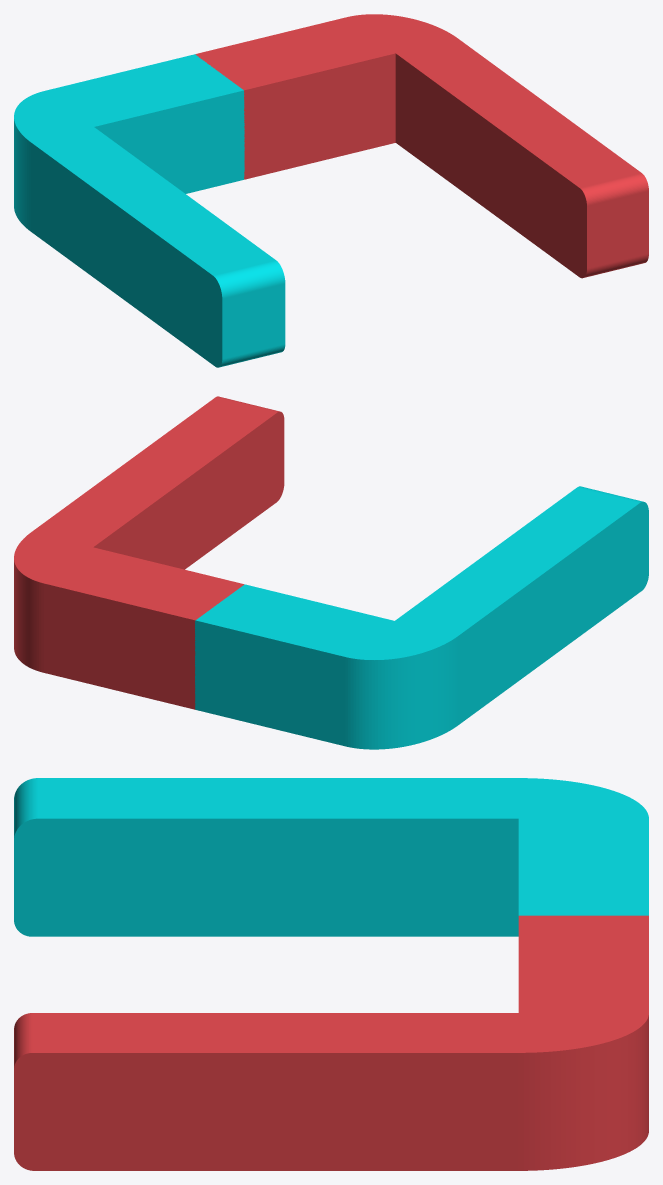
File: magnet3.fbx
3 views of the same model, one above another, from view 1: azimuth 30°, elevation 25°; view 2: azimuth 150°, elevation 25°; view 3: azimuth 270°, elevation 25° (orthographic). The views are drawn at different scales.
Parts seen in each view (by area): view 1: Cube.001; view 2: Cube.001; view 3: Cube.001.
Boxes of the visible parts, bbox=[...] form: Cube.001: bbox=[14, 14, 648, 367]; Cube.001: bbox=[14, 396, 648, 749]; Cube.001: bbox=[14, 778, 648, 1170].
Size of the model in its own units: 999 by 200 by 975.
